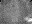person: (24, 16, 31, 23)
